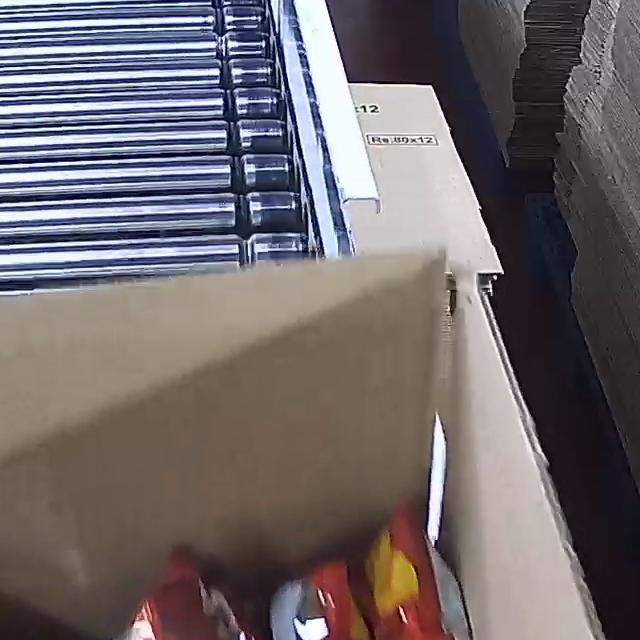masala: (0, 501, 520, 640)
